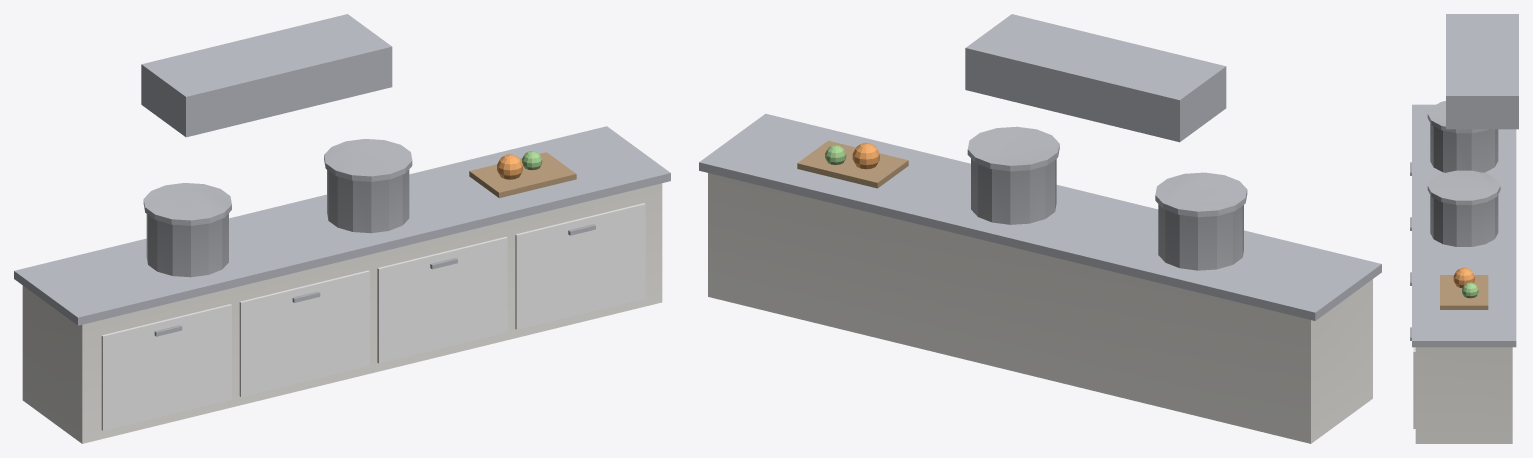
File: VKitchen.fbx
3 views of the same model, side by side, from view 1: azimuth 30°, elevation 25°; view 2: azimuth 150°, elevation 25°; view 3: azimuth 270°, elevation 25° (orthographic). The views are drawn at different scales.
Parts seen in each view (by area): view 1: VKitchen; view 2: VKitchen; view 3: VKitchen.
Part boxes in pixels (left/top/right/bottom): VKitchen: left=14, top=14, right=670, bottom=443; VKitchen: left=699, top=14, right=1381, bottom=443; VKitchen: left=1410, top=14, right=1518, bottom=443.
Bounding box in the file's own units: 4.6 × 2.25 × 0.895.
